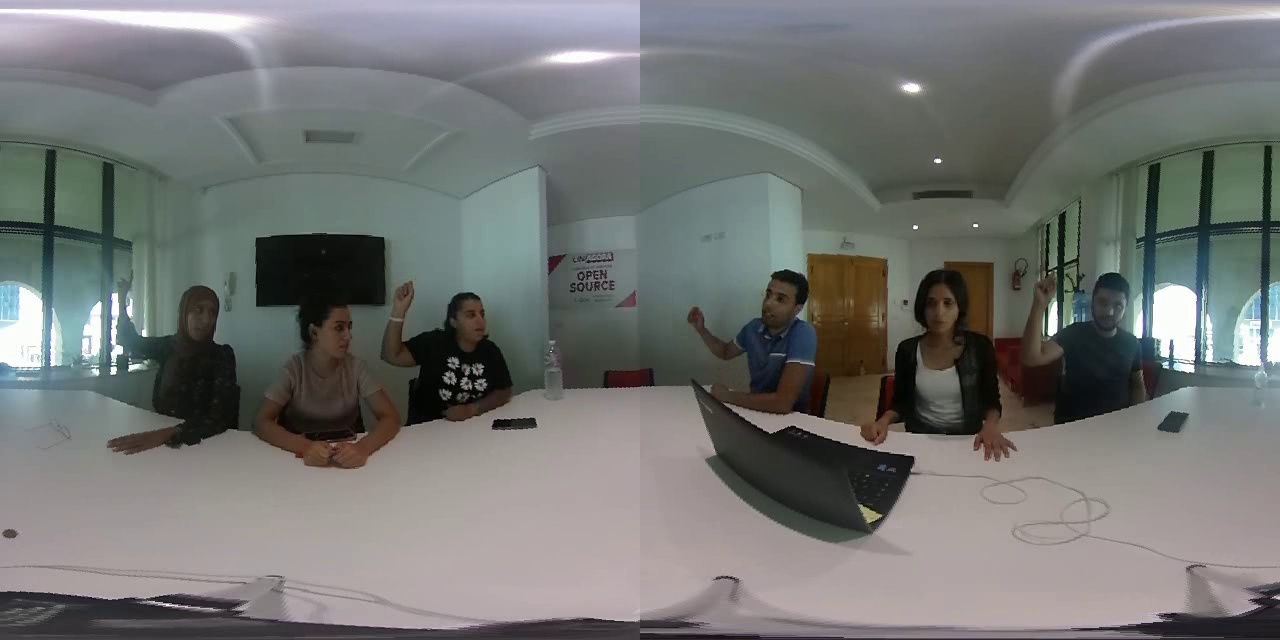person: (864, 266, 1016, 458), (104, 270, 246, 461), (252, 297, 397, 470), (686, 260, 824, 423), (386, 279, 522, 424), (1023, 269, 1159, 412)
speaking: (97, 267, 161, 364), (1019, 263, 1066, 372), (380, 278, 421, 369)
